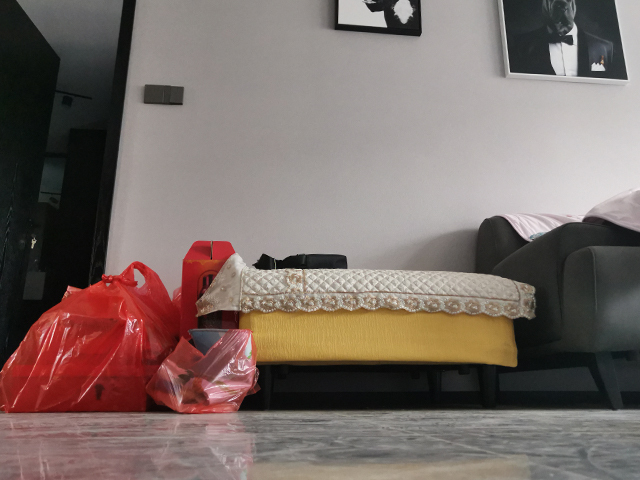sofa: (231, 266, 539, 411), (471, 187, 640, 412)
